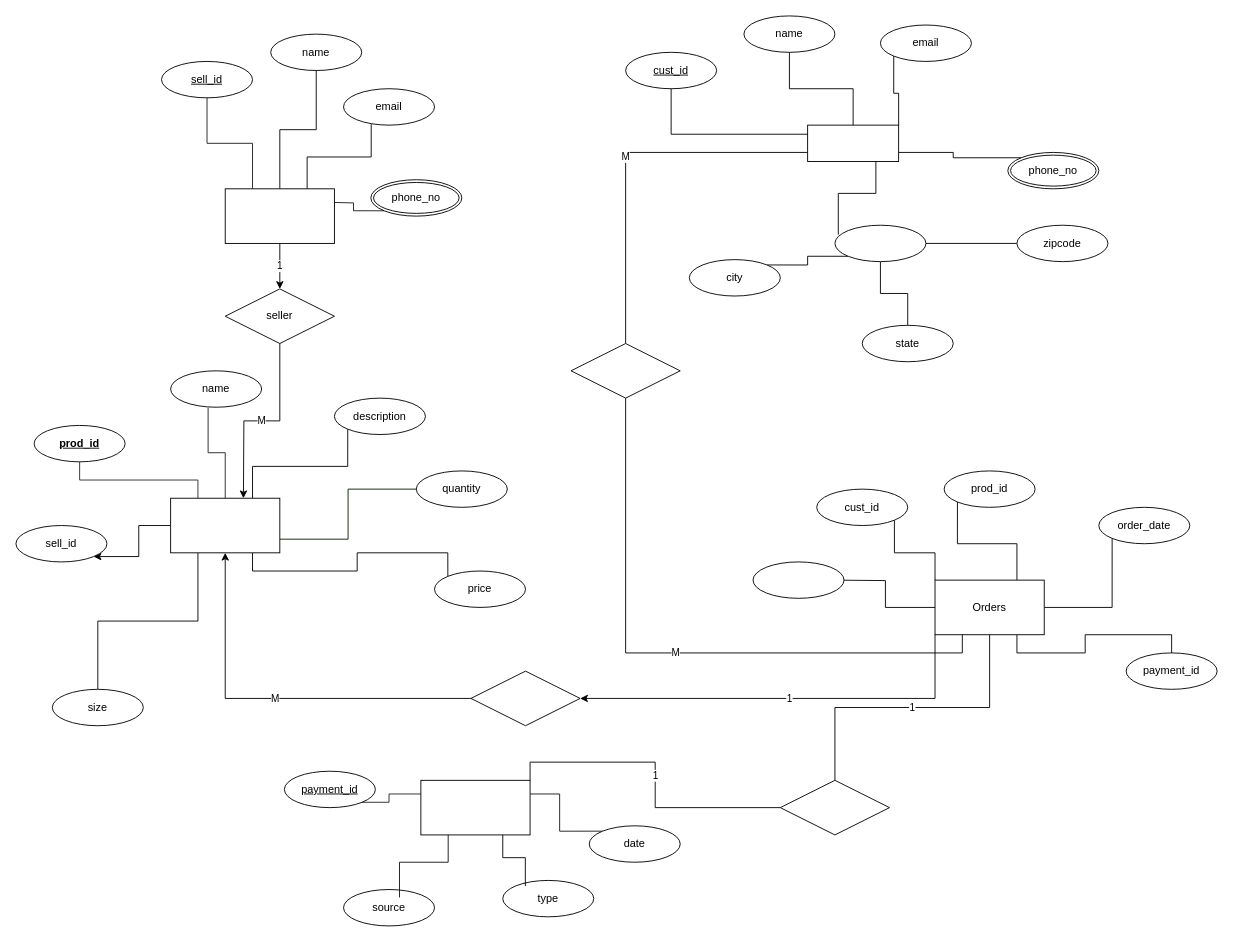
Some shapes in this 1233 by 942 pixel diagram are drawn without their labels. Each missing label, with the centre of its shape:
address: the point at 880,243
customer: the point at 853,143
order_id: the point at 798,579
orders product: the point at 525,698
payment: the point at 834,807
Payments: the point at 475,807
Products: the point at 225,525
Relationship: the point at 625,370
Sellers: the point at 279,215
